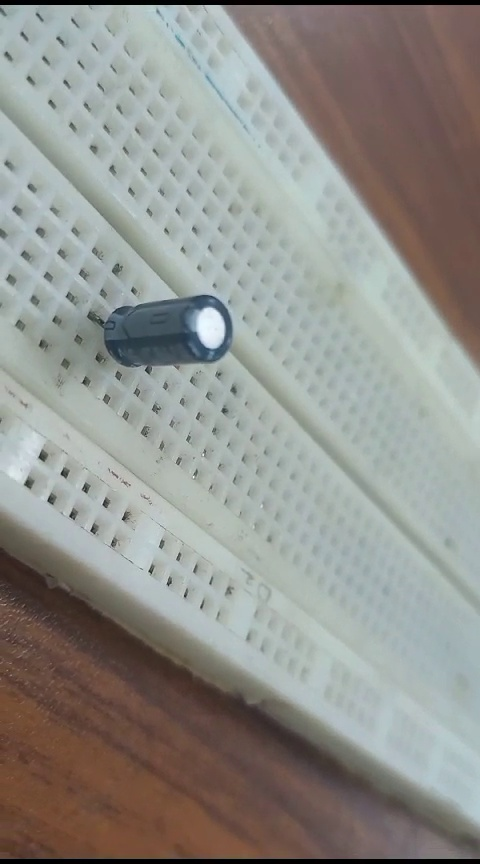capacitor: (84, 289, 243, 377)
